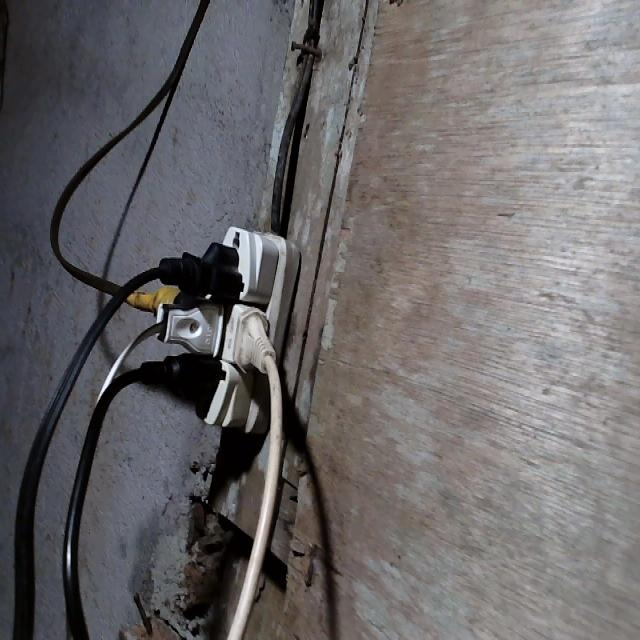-: (128, 222, 302, 434)
